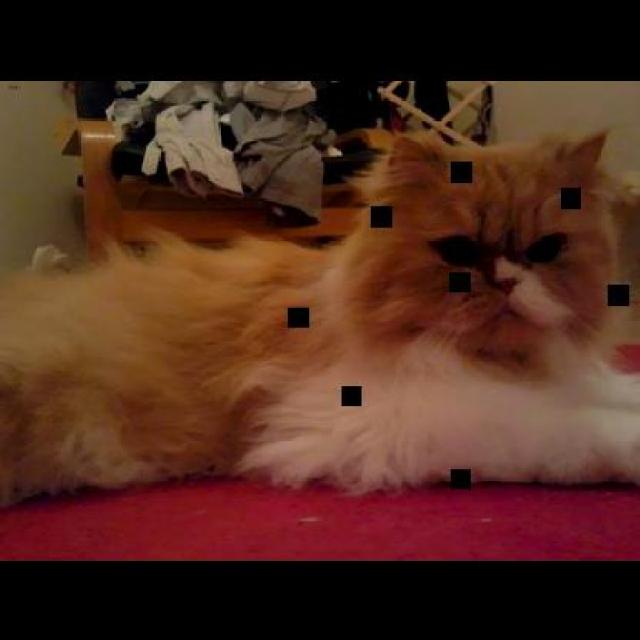unauthorized: (0, 124, 638, 515)
